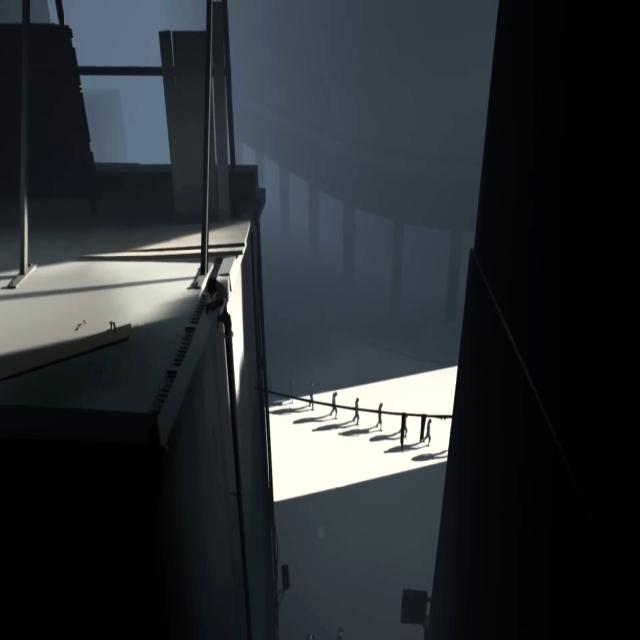boy: (208, 276, 228, 315)
zombie: (423, 419, 432, 447), (399, 414, 408, 439), (330, 392, 337, 420), (376, 403, 383, 431), (353, 397, 359, 426), (309, 381, 314, 411), (288, 378, 294, 403)
